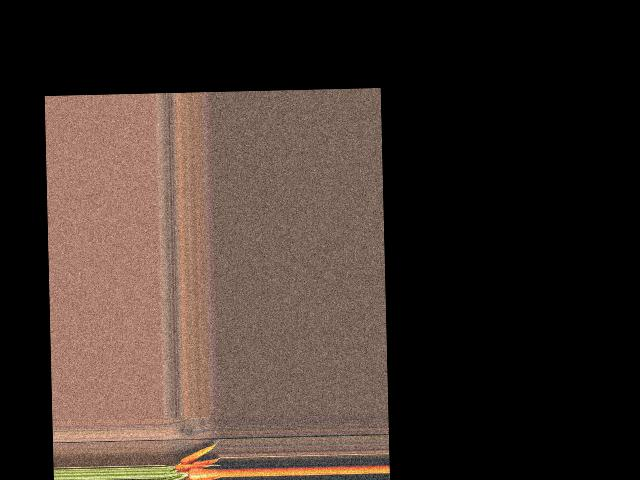carrot: (174, 420, 242, 451)
